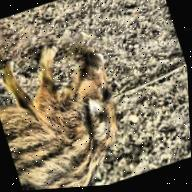boar: (0, 8, 154, 192)
